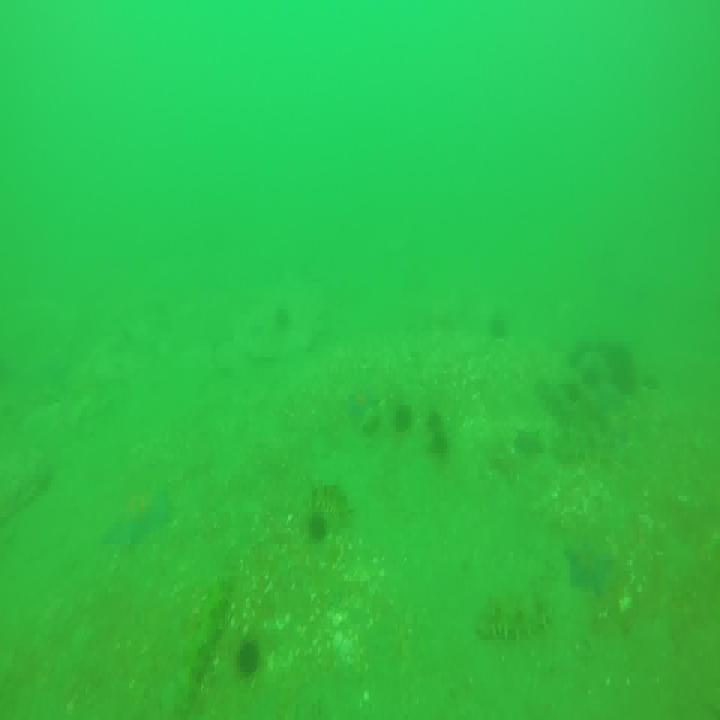echinus: (232, 633, 266, 672), (395, 404, 415, 440), (310, 510, 330, 546), (430, 433, 449, 461), (486, 315, 507, 340), (426, 413, 445, 437), (276, 306, 294, 328)
holothurian: (191, 562, 234, 683), (476, 595, 553, 640), (486, 429, 538, 489), (536, 375, 584, 426), (555, 426, 614, 464), (305, 481, 352, 519)
starfish: (108, 490, 169, 554), (565, 544, 620, 596), (348, 385, 379, 422)
